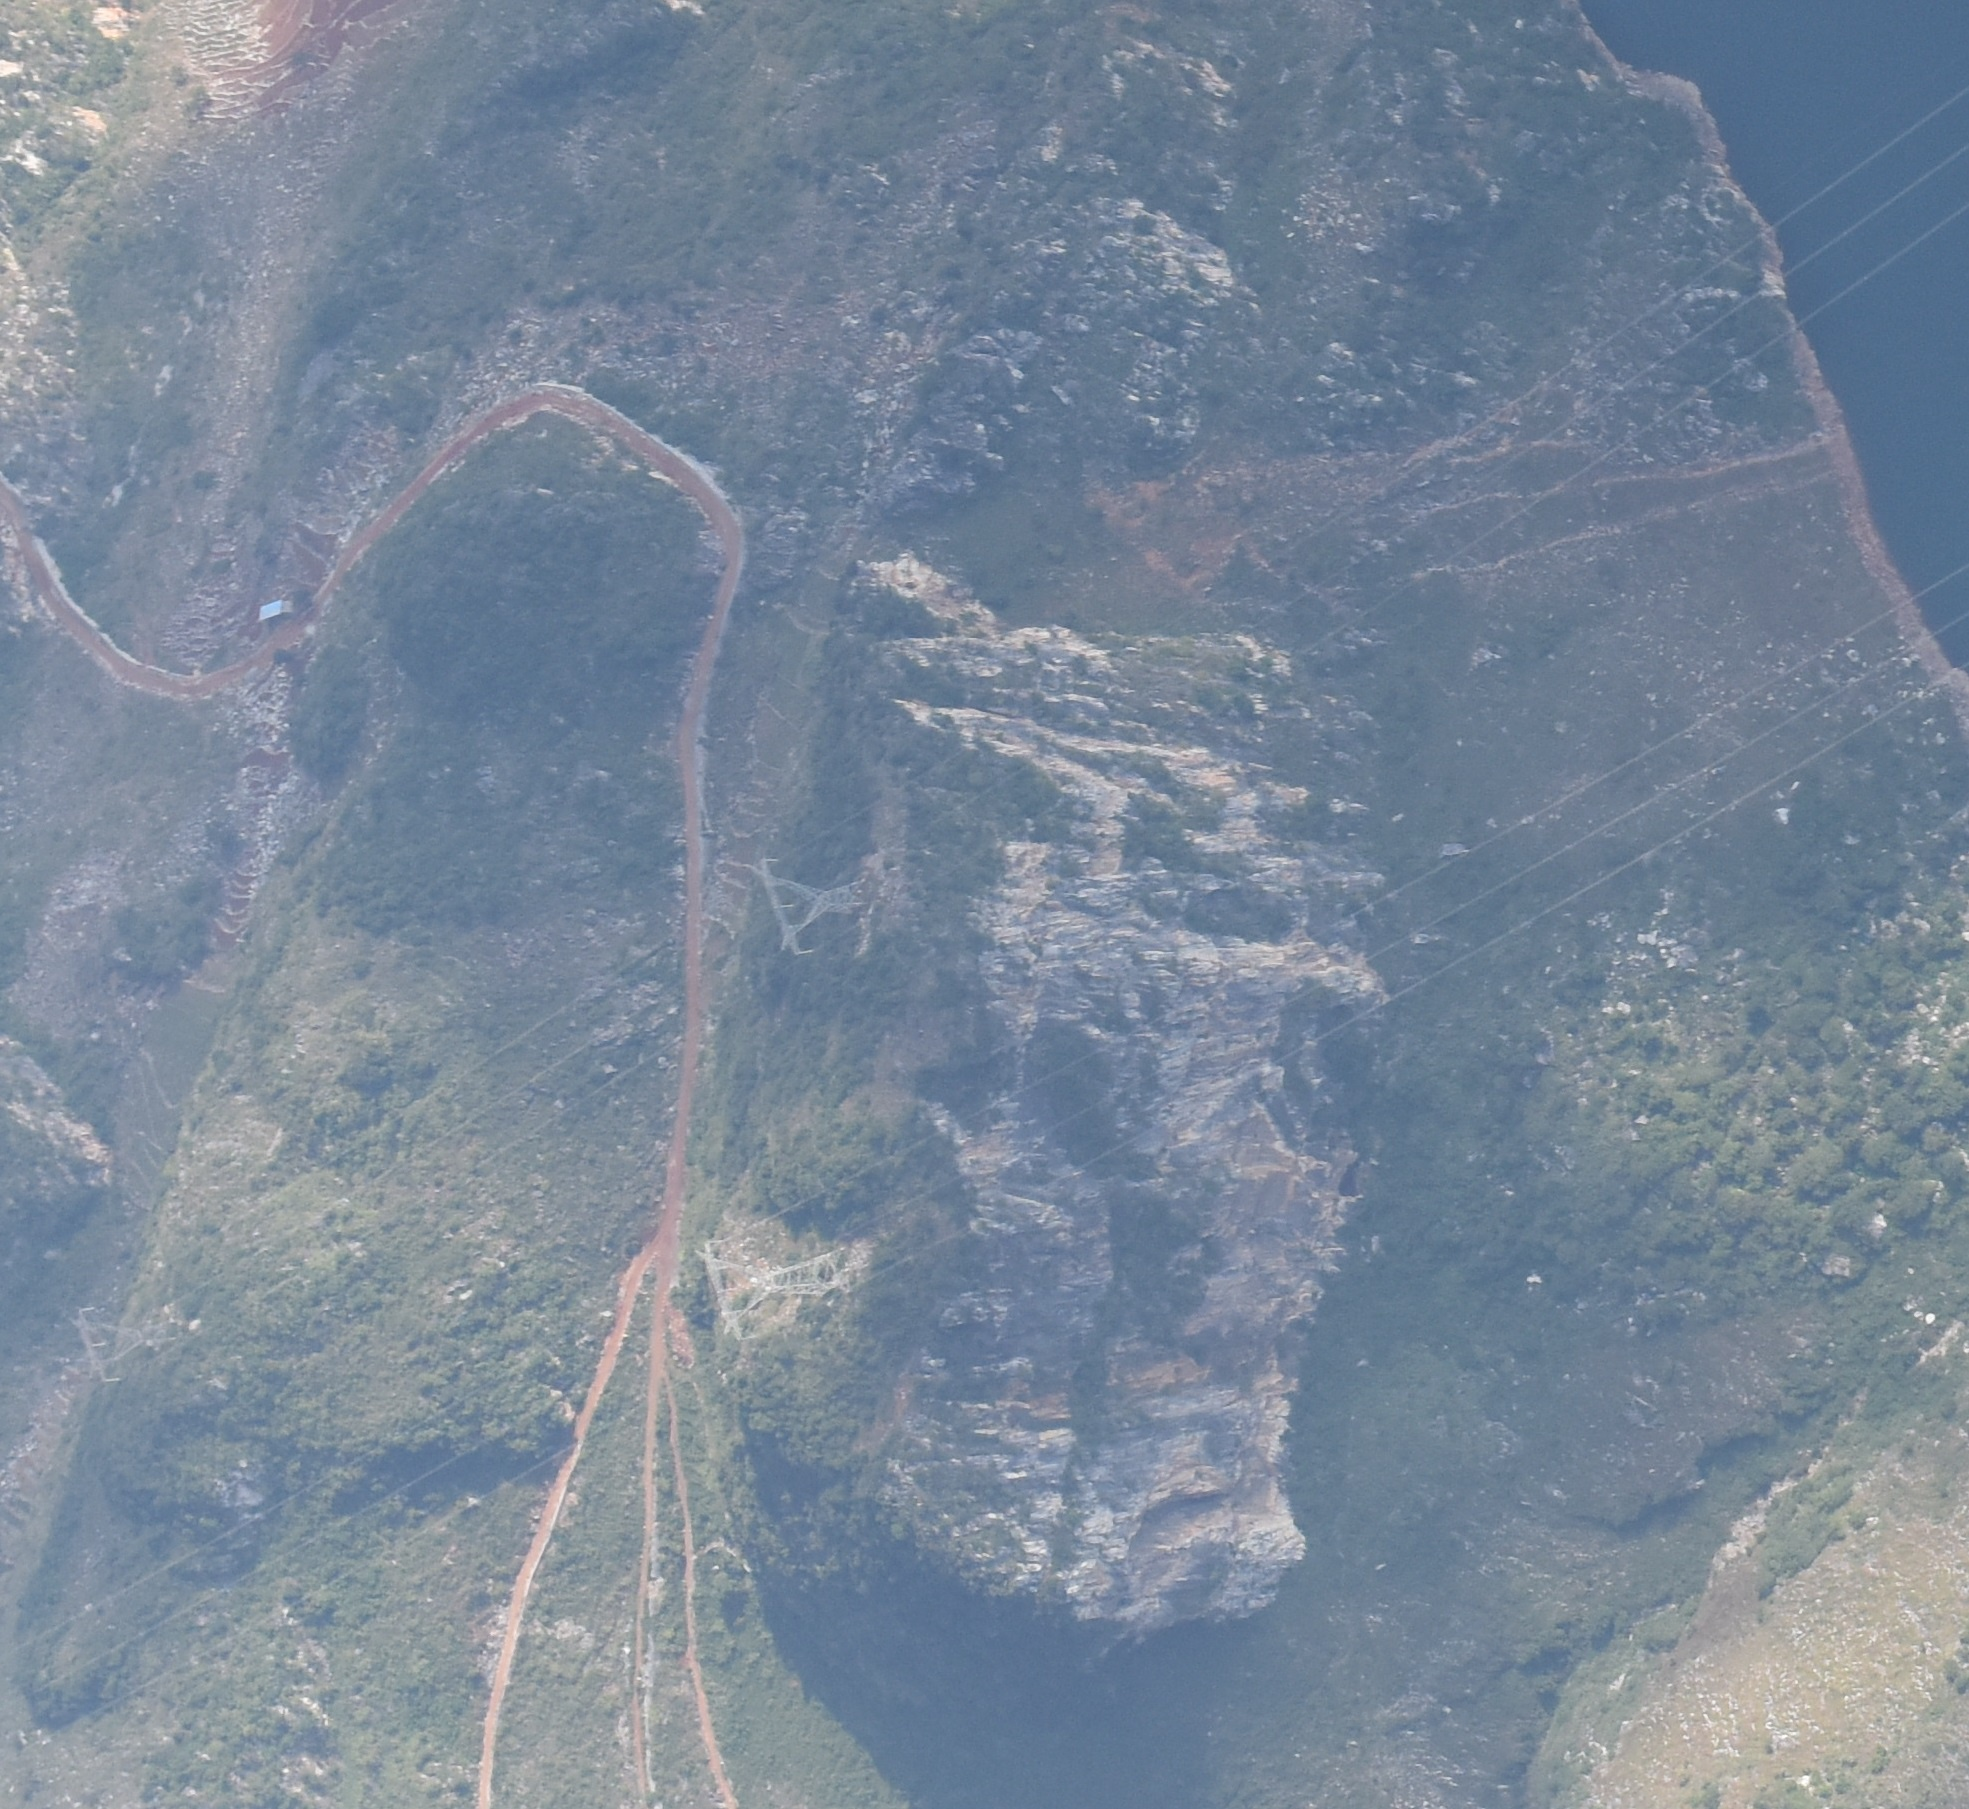cable-tower: (695, 1240, 861, 1344), (751, 854, 868, 959)
prefabricated-house: (257, 597, 293, 617)
